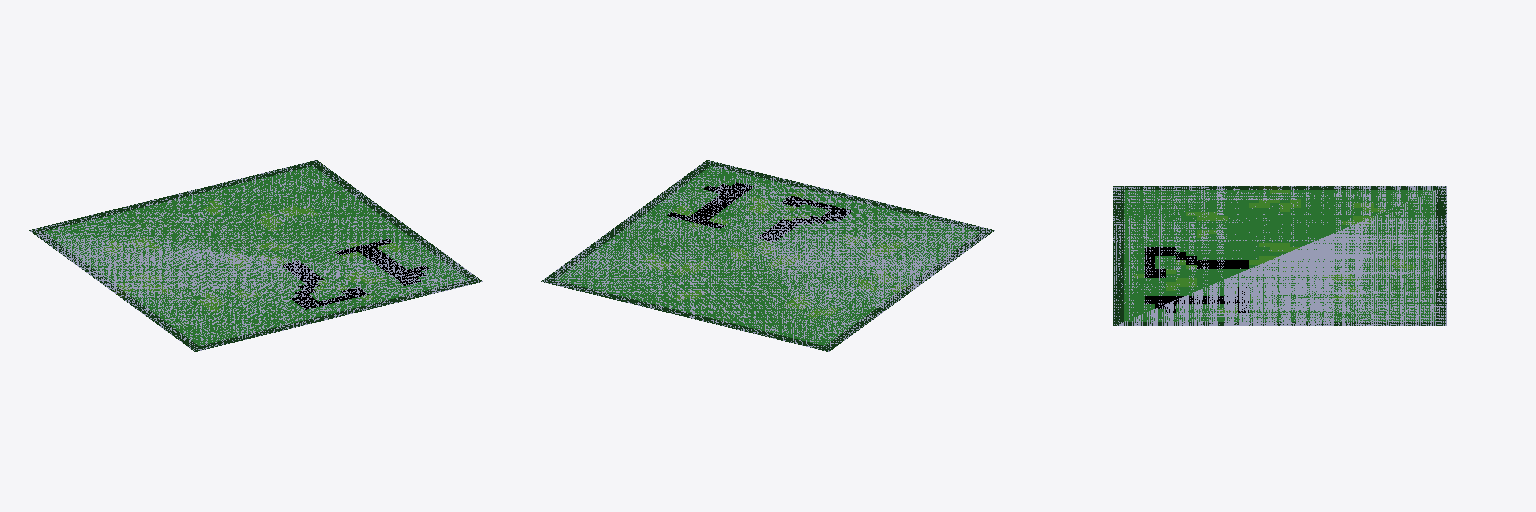
3 renders of one model, left to right at view 1: azimuth 30°, elevation 25°; view 2: azimuth 150°, elevation 25°; view 3: azimuth 270°, elevation 25°, orthographic.
Parts seen in each view (by area): view 1: Mesh1 Model; view 2: Mesh1 Model; view 3: Mesh1 Model.
Boxes of the visible parts, box(x1,y1,x2,y2) form: Mesh1 Model: box(29, 160, 482, 351); Mesh1 Model: box(541, 160, 994, 351); Mesh1 Model: box(1113, 186, 1446, 325).
Bounding box in the file's own units: 32 × 0 × 32.
2 materials, 1 textured.